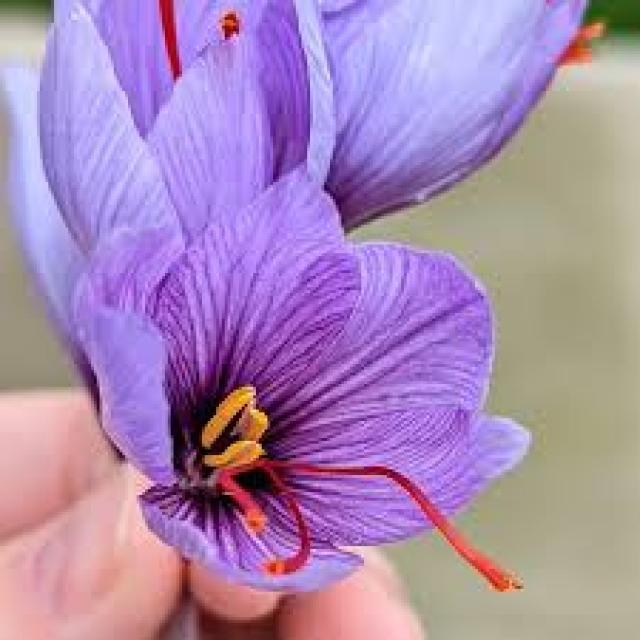Flower: (44, 205, 546, 591), (28, 0, 640, 205)
stigma: (308, 458, 511, 596), (251, 467, 315, 581), (152, 0, 181, 78), (222, 476, 265, 528)
